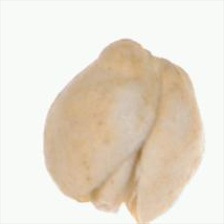L3: (77, 157, 148, 224)
L4: (44, 39, 202, 223)
